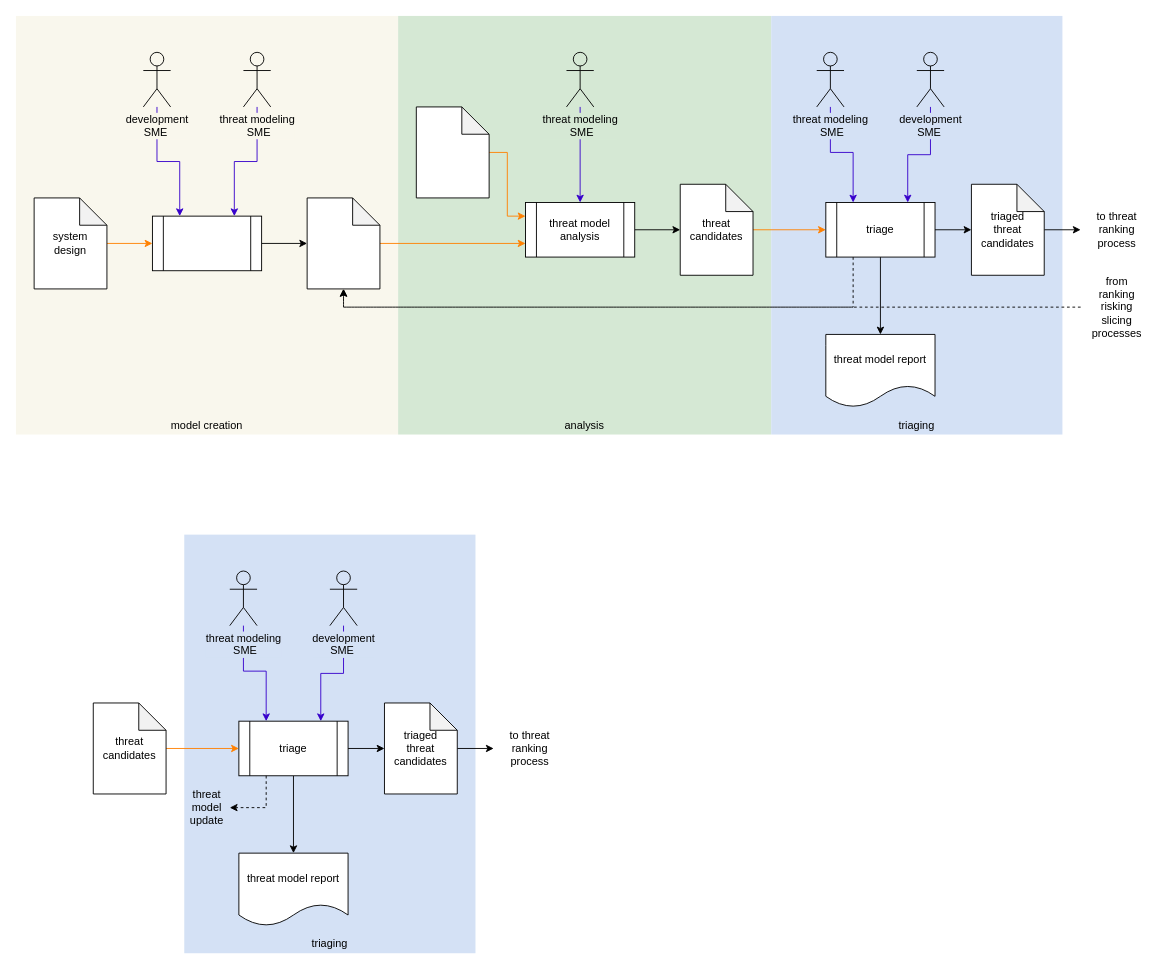
The diagram is 1168 pixels wide and 968 high, and some of its shapes have lost their labels. Here are the shapes that lost their labels. From the top down, the box of each, then its label:
(415, 106, 489, 198): updated development requirements
(152, 215, 262, 271): threat model creation
(306, 197, 380, 289): threat model
